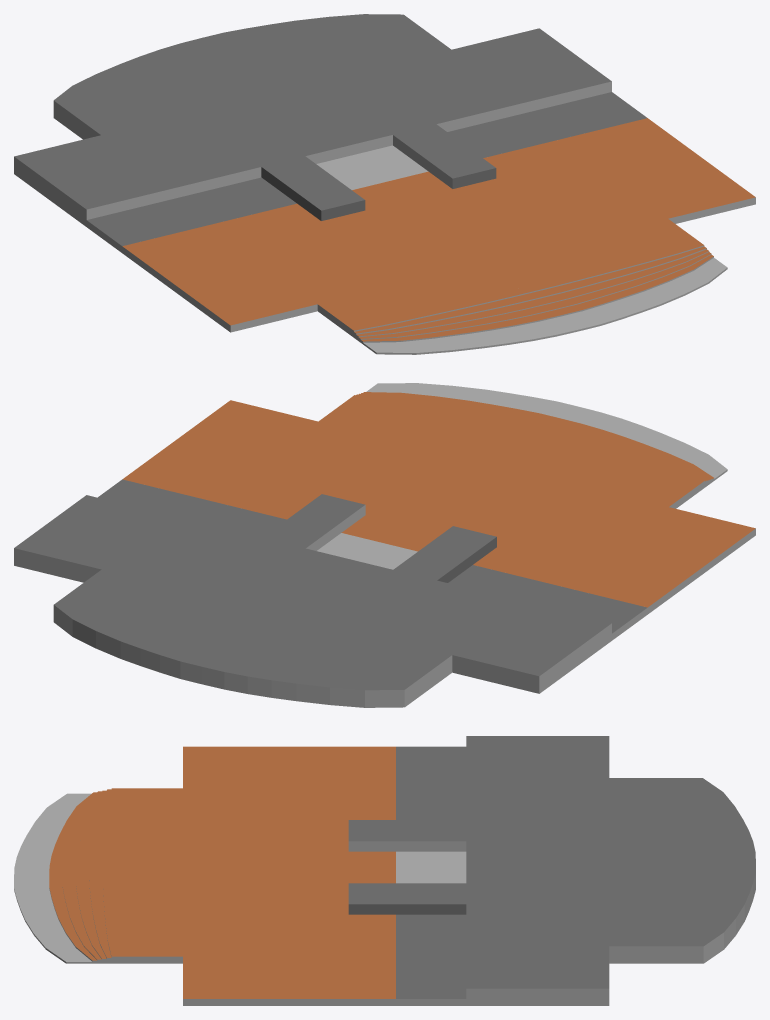
Rendered from Chibi Champions - Level TEST.fbx.
3 renders of one model, top to bottom at view 1: azimuth 30°, elevation 25°; view 2: azimuth 150°, elevation 25°; view 3: azimuth 270°, elevation 25°, orthographic.
Parts seen in each view (by area): view 1: Main Ground; view 2: Main Ground; view 3: Main Ground.
Part boxes in pixels (box(x1,y1,x2,y2)): Main Ground: box(14, 14, 755, 354); Main Ground: box(14, 383, 755, 707); Main Ground: box(14, 736, 755, 1005).
Size of the model in its own units: 38975 by 1249 by 48426.
